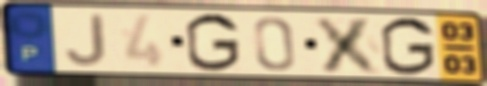0: (251, 15, 298, 73)
4: (120, 12, 169, 71)
G: (182, 11, 243, 74), (378, 15, 438, 78)
J: (62, 12, 109, 68)
X: (311, 15, 387, 76)
